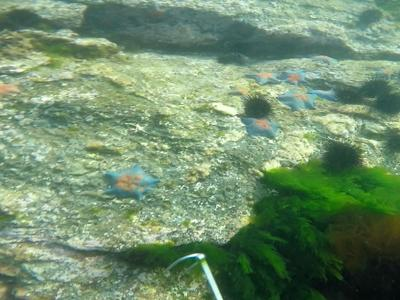urchin: (323, 138, 356, 170), (245, 95, 270, 118), (218, 52, 248, 67), (363, 77, 385, 97), (380, 92, 397, 115)
